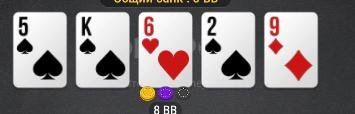2s: (204, 14, 253, 87)
5s: (15, 13, 66, 87)
6h: (140, 14, 191, 86)
9d: (266, 13, 317, 87)
Ks: (77, 14, 128, 85)
